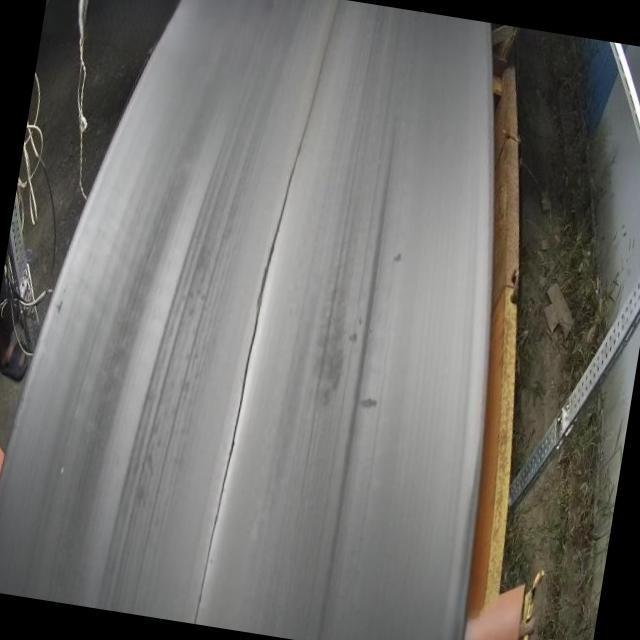Tear: (190, 66, 322, 630)
